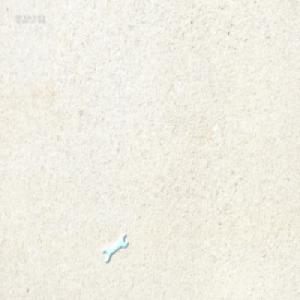Wrench: (103, 234, 127, 263)
